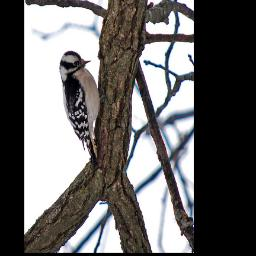Woodpecker: (59, 51, 111, 168)
